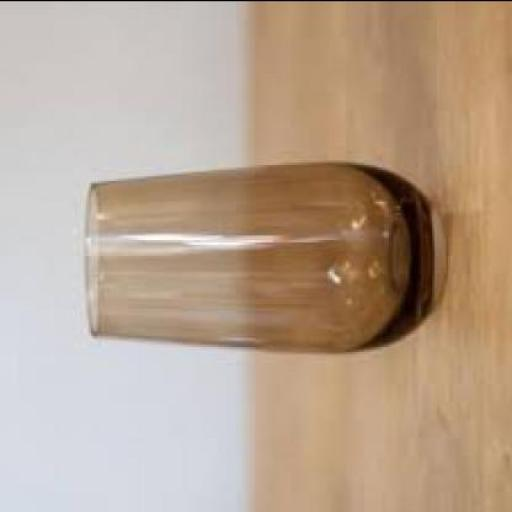glass: (84, 159, 433, 351)
